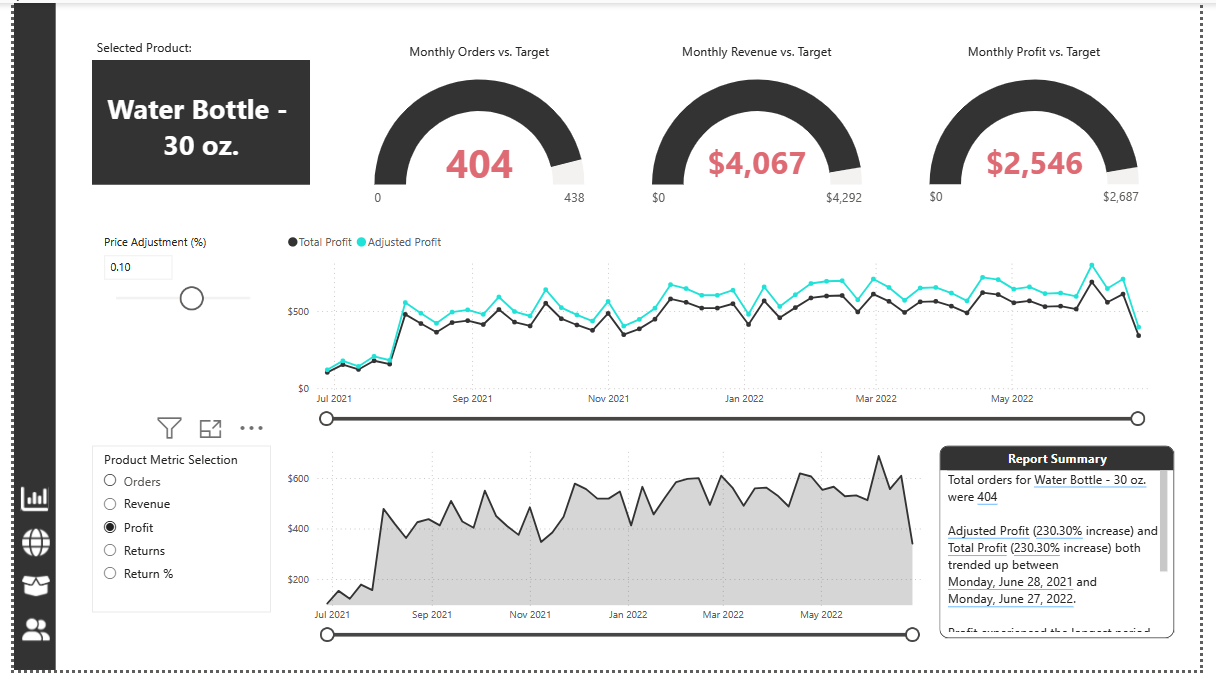

The dashboard page shown, as its layout file describes it:
{"tool":"powerbi","page":{"name":"Product Detail","canvas":[1280,720],"ordinal":2},"visuals":[{"type":"shape","box":[0,0,45,720],"z":0},{"type":"actionButton","box":[2.5,516.7,45.6,37.8],"z":0,"group":"g1"},{"type":"gauge","title":"Monthly Orders vs. Target","fields":{"Y":["Measure Table.Total Orders"],"MaxValue":["Measure Table.Order Target"]},"box":[383.7,41.5,236.9,203.7],"z":1000},{"type":"actionButton","box":[3.3,563.4,45.6,37.8],"z":1000,"group":"g1"},{"type":"gauge","title":"Monthly Revenue vs. Target","fields":{"Y":["Measure Table.Total Revenue"],"MaxValue":["Measure Table.Revenue Target"]},"box":[683.5,41.5,236.9,203.7],"z":2000},{"type":"actionButton","box":[3.3,611.1,45.6,37.8],"z":2000,"group":"g1"},{"type":"gauge","title":"Monthly Profit vs. Target","fields":{"Y":["Measure Table.Total Profit"],"MaxValue":["Measure Table.Profit Target"]},"box":[983.4,41.8,236.2,203.5],"z":3000},{"type":"actionButton","box":[3.3,657.8,45.6,37.8],"z":3000,"group":"g1"},{"type":"lineChart","title":"Profit Trending","fields":{"Category":["Calendar Lookup.Date Hierarchy.Year","Calendar Lookup.Date Hierarchy.Start of Month","Calendar Lookup.Date Hierarchy.Start of Week","Calendar Lookup.Date Hierarchy.Date"],"Y":["Measure Table.Total Profit","Measure Table.Adjusted Profit"]},"box":[290.5,237.4,952.8,221.5],"z":4000},{"type":"areaChart","title":"Return Trending","fields":{"Y":["Measure Table.Total Profit"],"Category":["Calendar Lookup.Date Hierarchy.Year","Calendar Lookup.Date Hierarchy.Start of Month","Calendar Lookup.Date Hierarchy.Start of Week","Calendar Lookup.Date Hierarchy.Date"]},"box":[290.5,471.3,708.7,221.5],"z":5000},{"type":"card","fields":{"Values":["Min(Product Lookup.ProductName)"]},"box":[83.6,61,235.1,134.5],"z":6000},{"type":"textbox","box":[83.6,32.8,136.8,36.2],"z":7000},{"type":"group","id":"g1","title":"Navigation Buttons","box":[2.5,516.7,46.4,178.9],"z":8000},{"type":"slicer","fields":{"Values":["Price Adjustment (%).Price Adjustment (%)"]},"box":[83.6,245.3,193.3,123.2],"z":9000},{"type":"slicer","fields":{"Values":["Product Metric Selection.Product Metric Selection"]},"box":[83.6,477,193.3,180.8],"z":10000},{"type":"textbox","title":"Report Summary","box":[999.2,478.1,253.2,208],"z":11000}]}

Visuals, with their boxes on the page's 1280x720 design canvas (x1, y1, x2, y2). These are canvas units, not pixel positions in the 1216x679 screenshot, which may show the page scaled, cropped or inside an application window:
shape: <box>0,0,45,720</box>
actionButton: <box>2,517,48,554</box>
"Monthly Orders vs. Target" gauge: <box>384,42,621,245</box>
actionButton: <box>3,563,49,601</box>
"Monthly Revenue vs. Target" gauge: <box>684,42,920,245</box>
actionButton: <box>3,611,49,649</box>
"Monthly Profit vs. Target" gauge: <box>983,42,1220,245</box>
actionButton: <box>3,658,49,696</box>
"Profit Trending" lineChart: <box>290,237,1243,459</box>
"Return Trending" areaChart: <box>290,471,999,693</box>
card - Min(Product Lookup.ProductName): <box>84,61,319,196</box>
textbox: <box>84,33,220,69</box>
"Navigation Buttons" group: <box>2,517,49,696</box>
slicer - Price Adjustment (%).Price Adjustment (%): <box>84,245,277,368</box>
slicer - Product Metric Selection.Product Metric Selection: <box>84,477,277,658</box>
"Report Summary" textbox: <box>999,478,1252,686</box>
